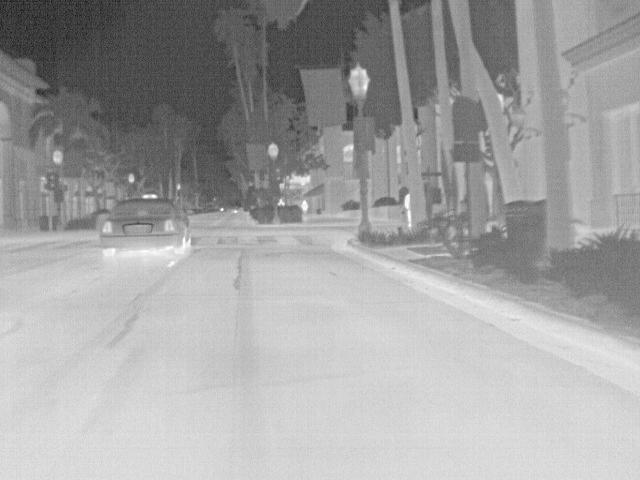car: (98, 196, 192, 260)
person: (402, 193, 412, 229), (299, 198, 310, 214), (276, 196, 285, 206)
